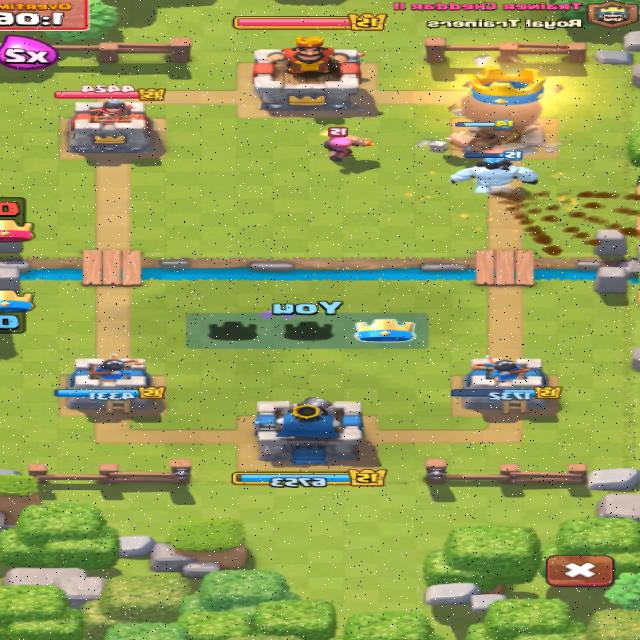Enemy-Firecracker: (324, 127, 372, 162)
Enemy-KingTower-Activated: (254, 36, 362, 109)
Enemy-PrincessTower: (70, 98, 157, 157)
Player-HogRider: (431, 128, 514, 153)
Player-IceGolem: (453, 156, 537, 194)
Player-KingTower-Activated: (254, 398, 364, 466)
Player-PrincessTower: (56, 354, 166, 413), (453, 356, 562, 413)
